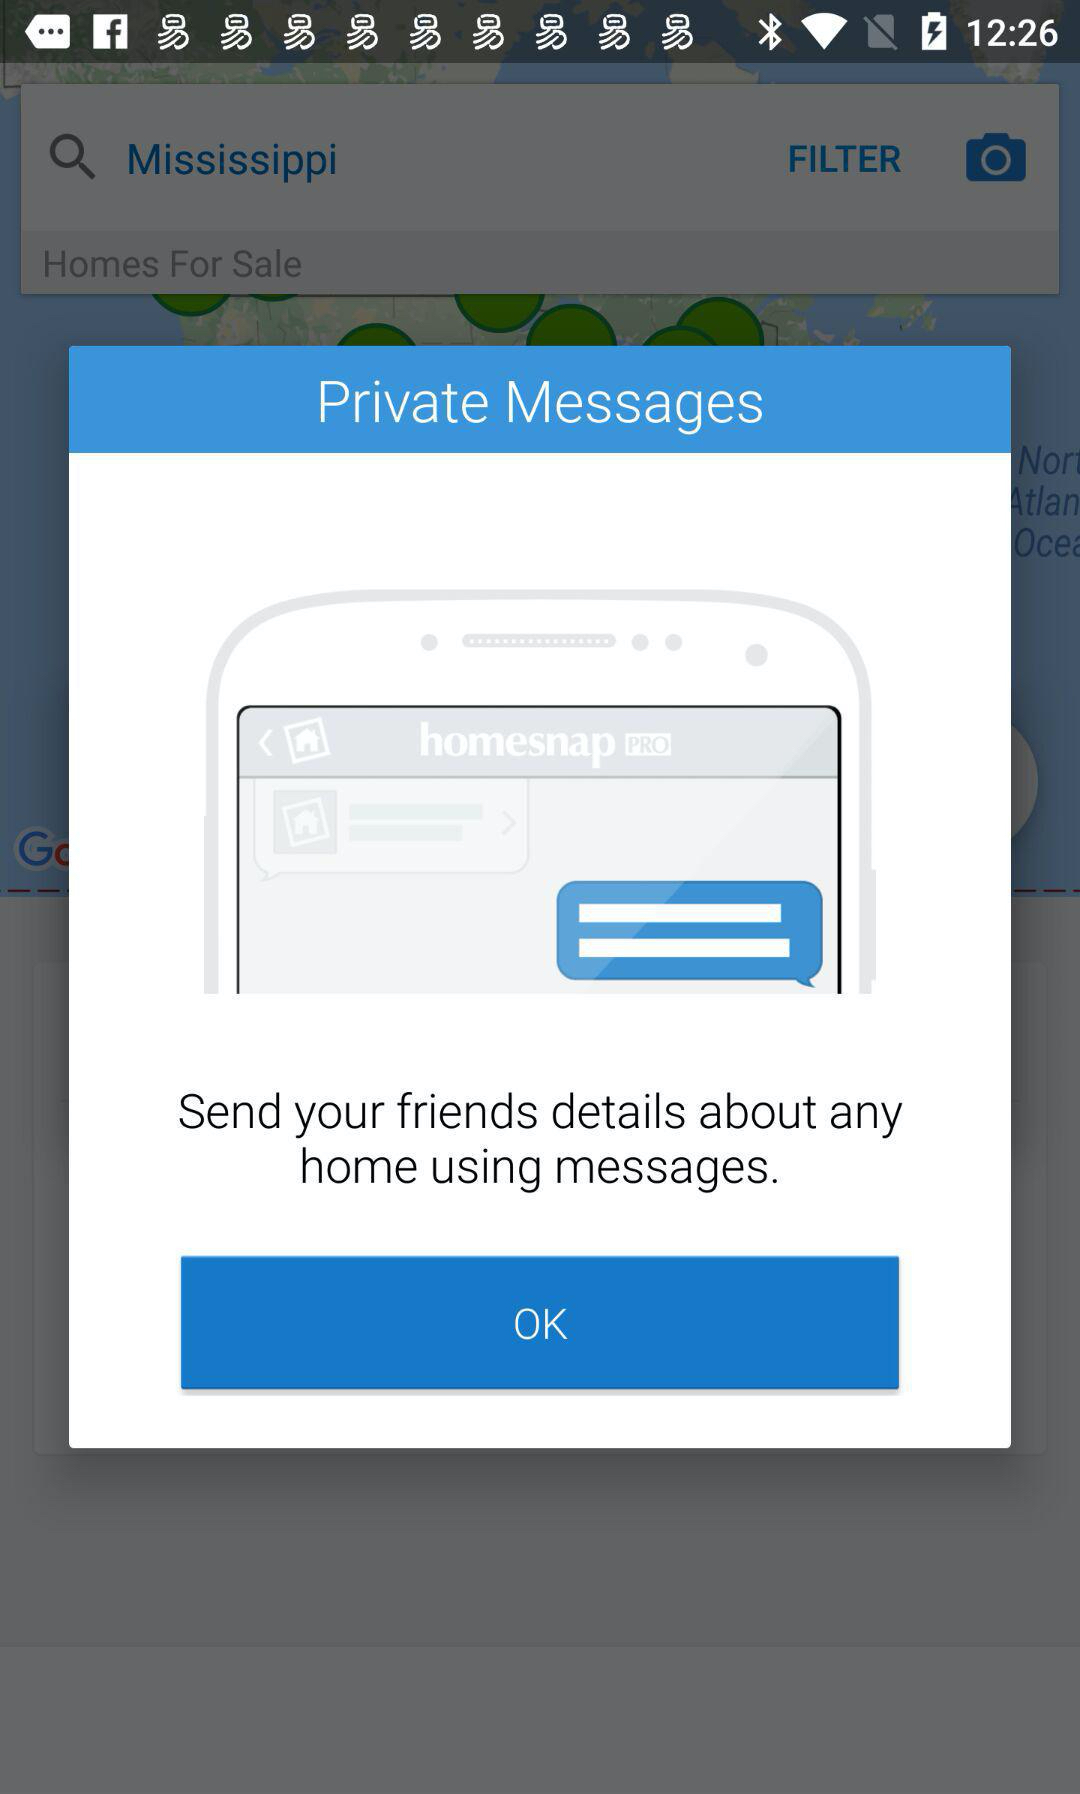Icon: (965, 132, 1027, 183), (49, 133, 97, 182)
Image: (206, 589, 878, 994)
Modal: (70, 347, 1011, 1449)
Text: (179, 1092, 903, 1193), (320, 381, 764, 436), (129, 144, 337, 185), (45, 249, 302, 279), (789, 144, 902, 173)
TextButton: (181, 1255, 899, 1390)
UpperTaskBar: (1, 1, 1080, 64)
